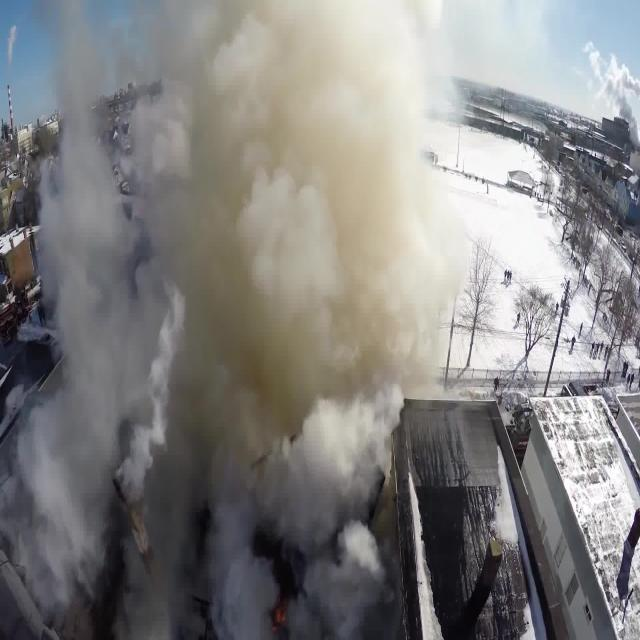Smoke: (0, 10, 522, 616)
